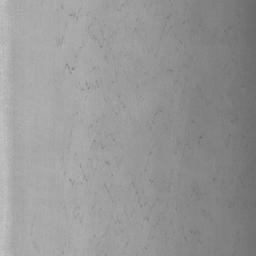Silk spot: (81, 80, 99, 91), (90, 139, 106, 149), (69, 8, 81, 21), (65, 63, 75, 74), (56, 36, 64, 48)
